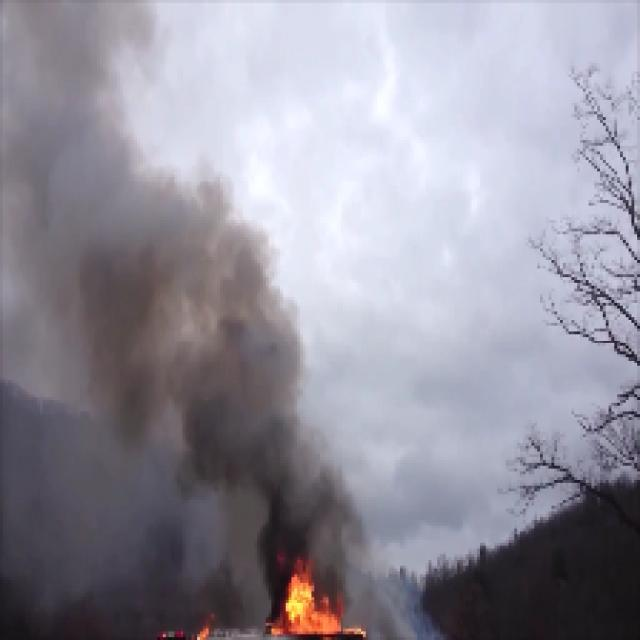fire: (277, 565, 345, 637)
smoke: (9, 13, 157, 584), (164, 203, 300, 530)
